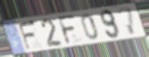0: (80, 13, 101, 41)
2: (41, 18, 64, 48)
7: (117, 6, 136, 37)
9: (99, 8, 122, 40)
F: (17, 18, 38, 52), (56, 14, 78, 46)
